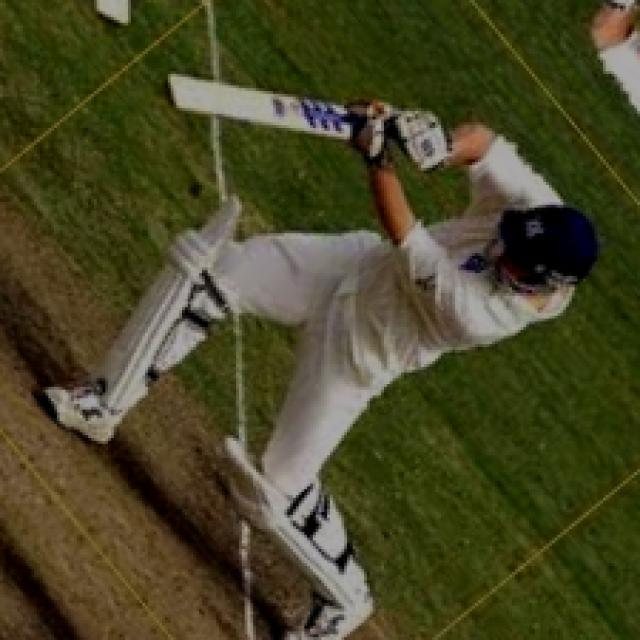bat: (140, 65, 368, 151)
toe: (164, 66, 185, 117)
